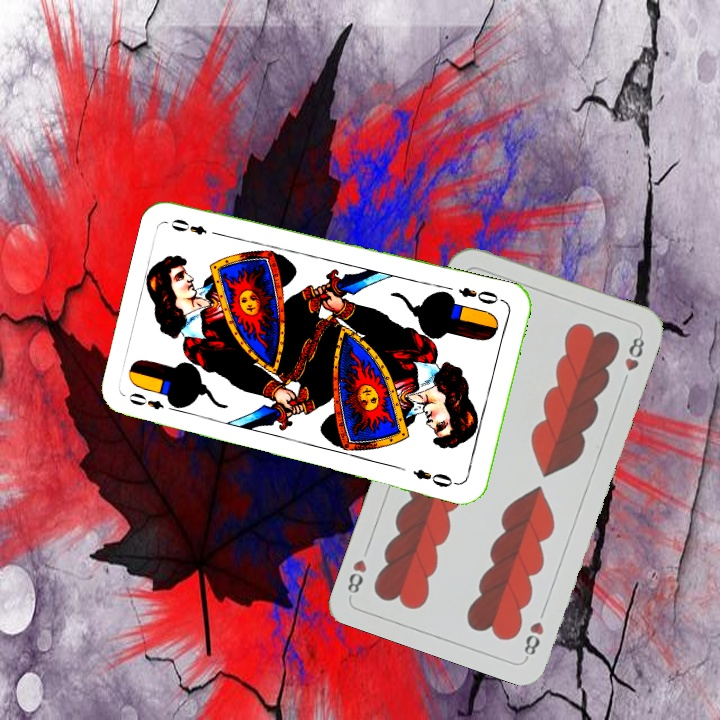EO: (124, 388, 182, 415), (454, 283, 501, 307)
H8: (520, 617, 547, 661)
